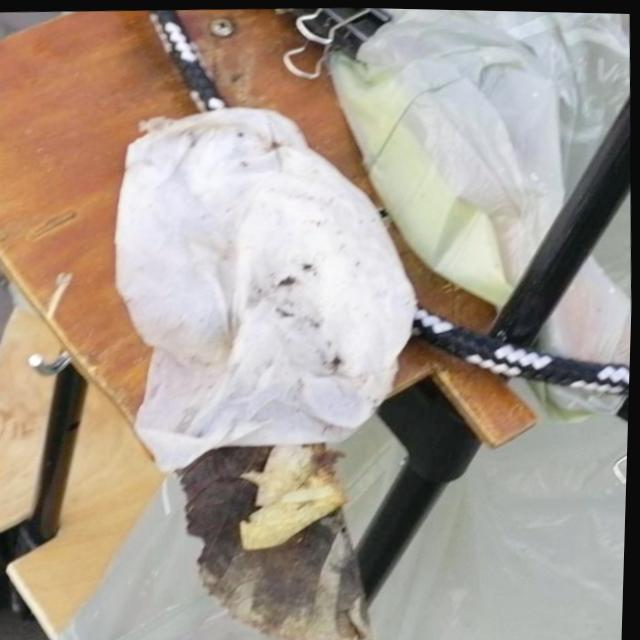Paper: (102, 94, 430, 482)
